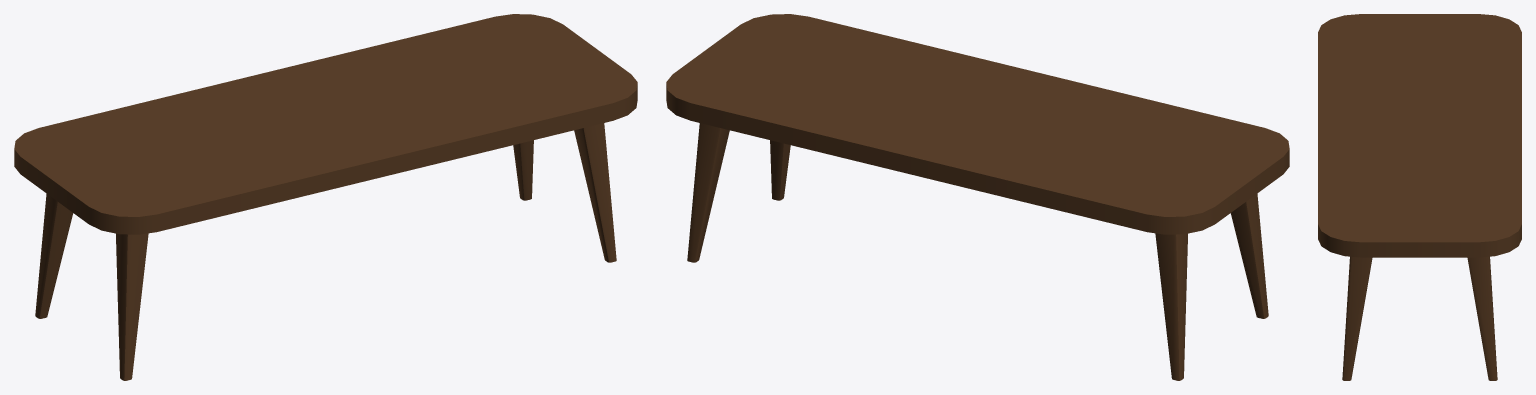
File: Mesa.fbx
3 renders of one model, left to right at view 1: azimuth 30°, elevation 25°; view 2: azimuth 150°, elevation 25°; view 3: azimuth 270°, elevation 25°, orthographic. The views are drawn at different scales.
Visible parts, largest first — view 1: tabla; view 2: tabla; view 3: tabla.
Boxes of the visible parts, x1=… form: tabla: x1=14, y1=14, x2=637, y2=380; tabla: x1=666, y1=14, x2=1289, y2=380; tabla: x1=1318, y1=14, x2=1521, y2=380.
Bounding box in the file's own units: 245 × 74.42 × 92.26.
